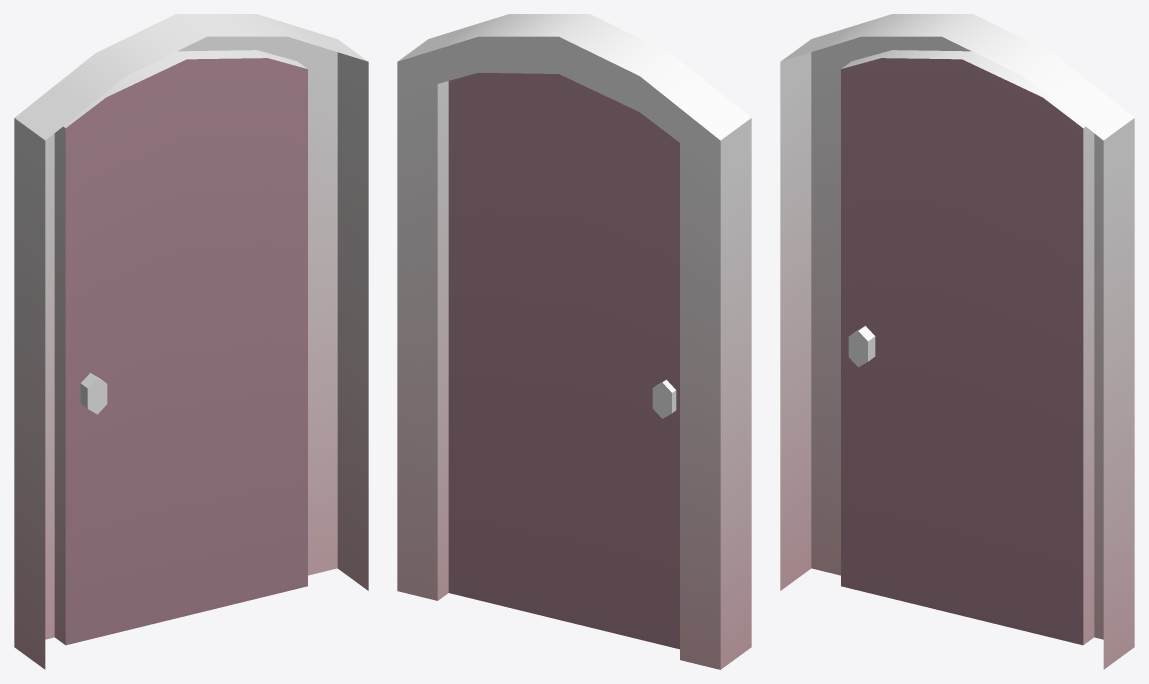
Rendered from Door.fbx.
3 views of the same model, side by side, from view 1: azimuth 30°, elevation 25°; view 2: azimuth 150°, elevation 25°; view 3: azimuth 330°, elevation 25° (orthographic).
Visible parts, largest first — view 1: Door; view 2: Door; view 3: Door.
Boxes of the visible parts, bbox=[...] form: Door: bbox=[14, 14, 368, 669]; Door: bbox=[397, 14, 751, 669]; Door: bbox=[780, 14, 1134, 669].
Bounding box in the file's own units: 200 × 351 × 33.28.
